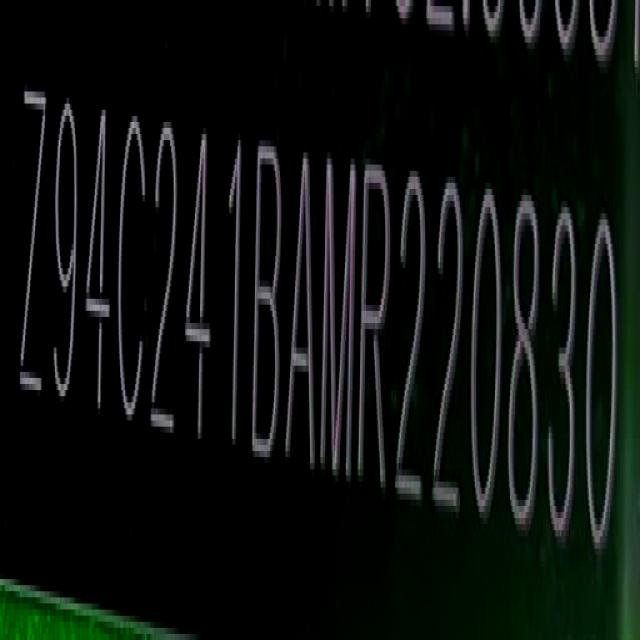0: (590, 205, 622, 553), (471, 183, 502, 529), (118, 103, 148, 430)
1: (222, 127, 244, 461)
2: (395, 167, 428, 514), (434, 174, 466, 519), (150, 113, 178, 449)
3: (552, 197, 582, 548)
4: (84, 98, 116, 424), (188, 119, 216, 448)
8: (511, 187, 542, 537)
9: (51, 89, 79, 412)
A: (284, 135, 318, 481)
B: (253, 134, 285, 468)
M: (323, 145, 356, 487)
R: (358, 152, 392, 500)
Z: (18, 78, 48, 406)
